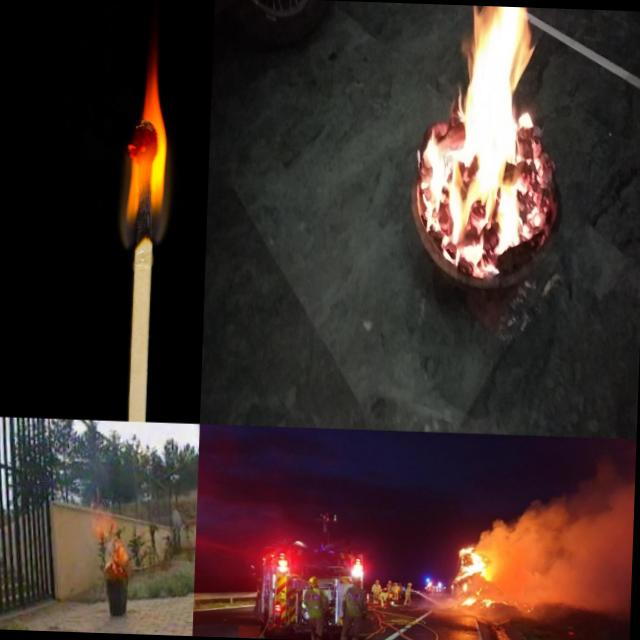fire: (409, 3, 538, 288), (109, 29, 184, 243), (530, 124, 566, 252), (451, 532, 501, 608), (88, 508, 132, 575)
smoke: (482, 449, 636, 612)
